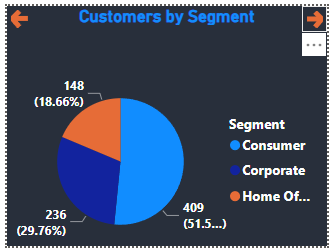

Layout of this report page (visuals, bound fields, positions):
{"tool":"powerbi","page":{"name":"Customer by Segment Tooltip","canvas":[320,240],"ordinal":7},"visuals":[{"type":"pieChart","title":"Customers by Segment","fields":{"Category":["Dim Customers.Segment"],"Y":["Dim Customers.Total Customers"]},"box":[0,0,320,292],"z":0},{"type":"actionButton","box":[0,0,28,26],"z":1000},{"type":"actionButton","box":[295,0,25,26],"z":2000}]}

Visuals, with their boxes in screenshot pixels (x1, y1, x2, y2), scaled from the page's 320x240 canvas onto the 330x251 screenshot:
"Customers by Segment" pieChart: bbox=(0, 0, 329, 250)
actionButton: bbox=(0, 0, 29, 27)
actionButton: bbox=(304, 0, 329, 27)
